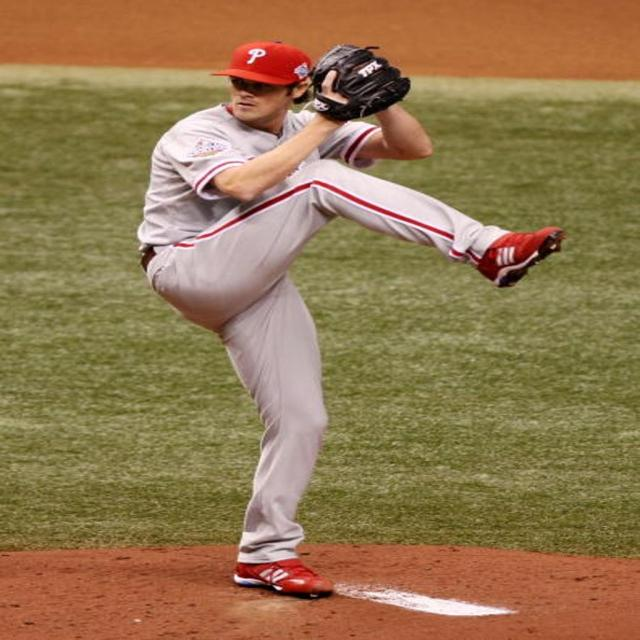Face: (212, 73, 299, 127)
